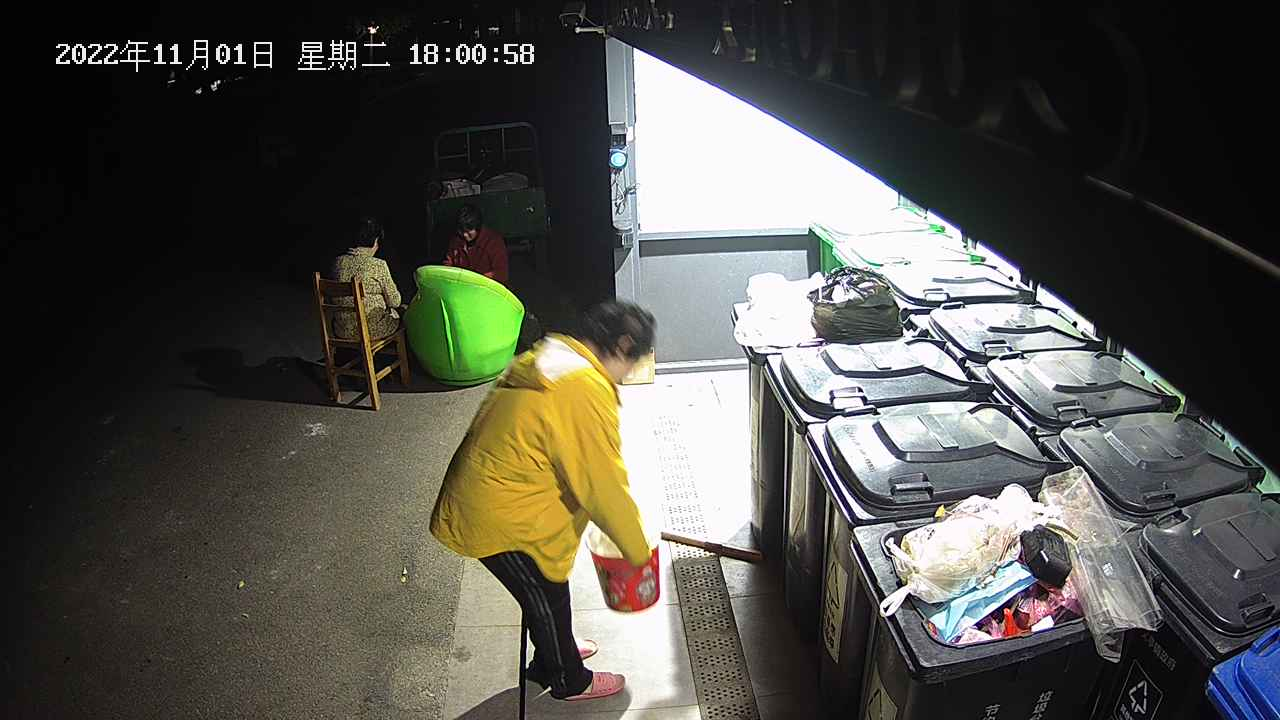person: (428, 295, 659, 702), (328, 218, 402, 342), (439, 202, 510, 285)
youtong: (582, 515, 662, 614)
